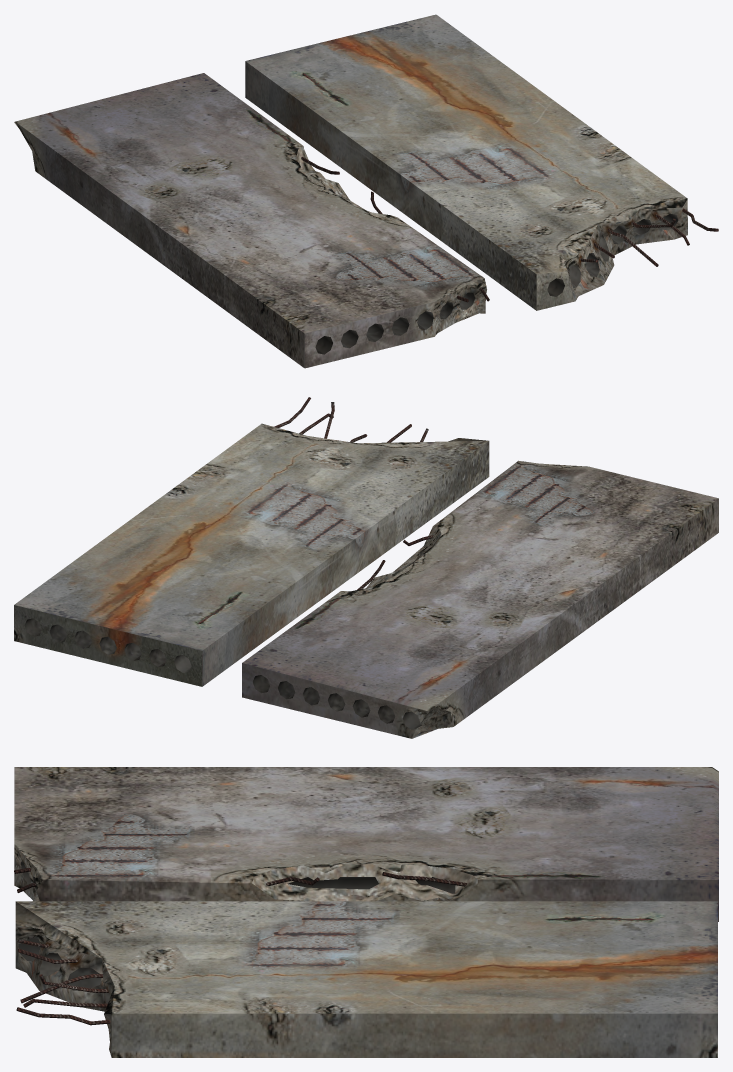
The model's file is plita.FBX.
The picture shows the model from 3 angles, top to bottom: view 1: azimuth 30°, elevation 25°; view 2: azimuth 150°, elevation 25°; view 3: azimuth 270°, elevation 25°; orthographic projection. The views are drawn at different scales.
Parts seen in each view (by area): view 1: concrete2, concrete1; view 2: concrete2, concrete1; view 3: concrete1, concrete2.
Part boxes in pixels (bbox=[...]): concrete2: bbox=[14, 73, 489, 368]; concrete1: bbox=[245, 14, 718, 310]; concrete2: bbox=[242, 460, 718, 738]; concrete1: bbox=[14, 397, 489, 686]; concrete1: bbox=[15, 901, 717, 1057]; concrete2: bbox=[14, 767, 718, 921].
Size of the model in its own units: 6.74 by 0.7377 by 8.06.
